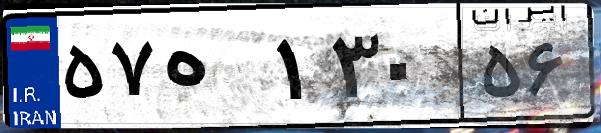0: (385, 28, 445, 110)
1: (270, 28, 330, 110)
3: (330, 28, 385, 110)
5: (57, 26, 110, 100), (475, 38, 525, 113)
6: (525, 38, 570, 115)
7: (110, 28, 158, 98)
ه: (158, 20, 270, 120)
